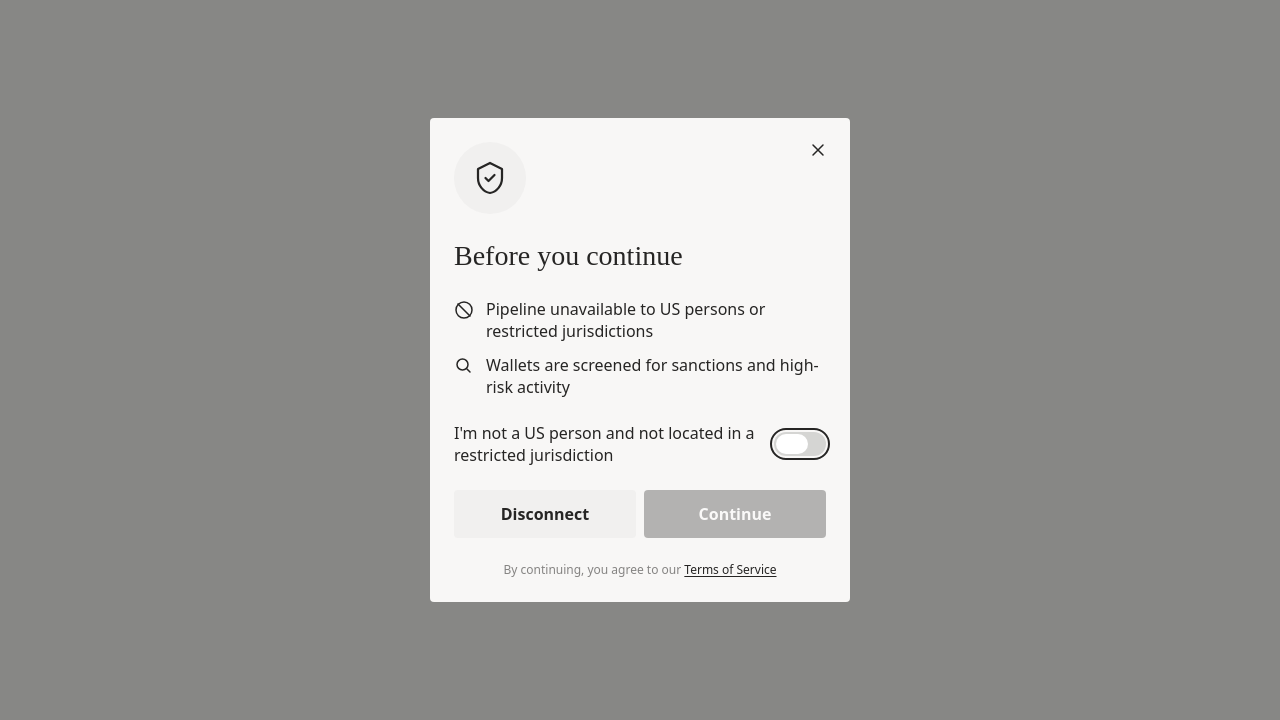
Test: FirstConnectionModal — toggle interaction › toggling on then off re-disables Continue
The width and height of the screenshot is (1280, 720).
Click the switch at (800, 444), box x1=774 y1=432 x2=826 y2=456
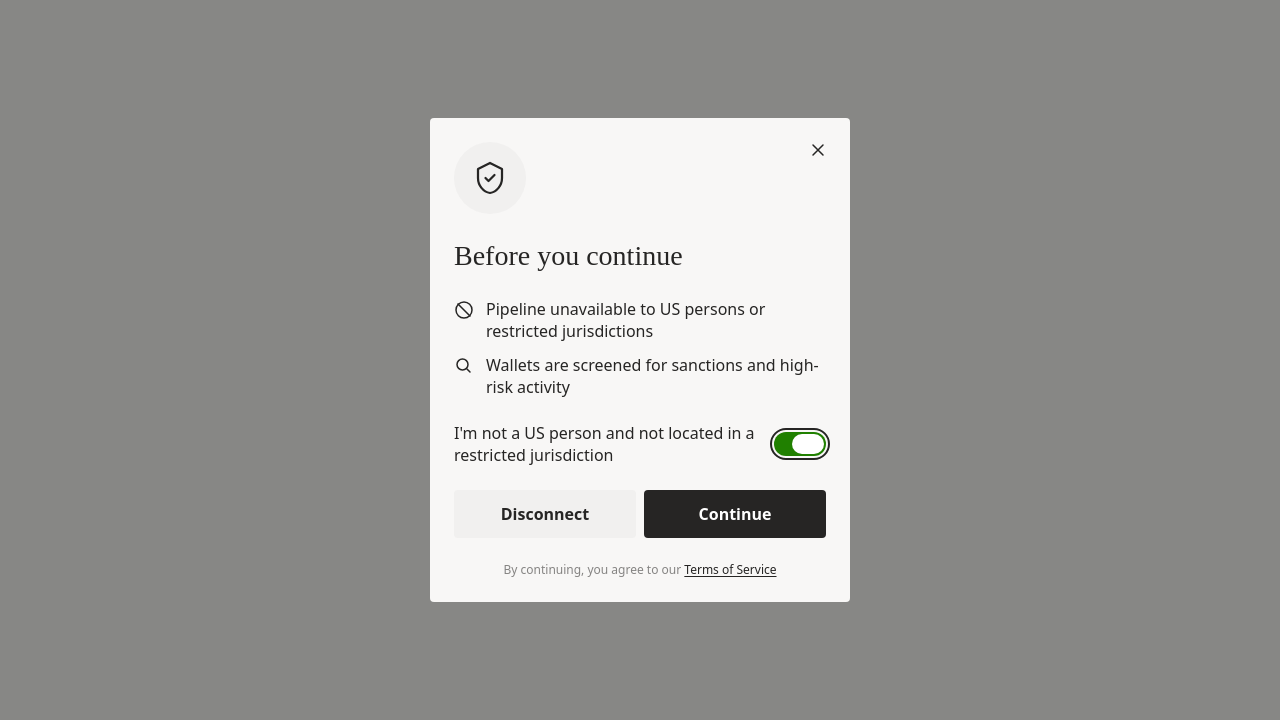
Click the switch at (800, 444), box x1=774 y1=432 x2=826 y2=456
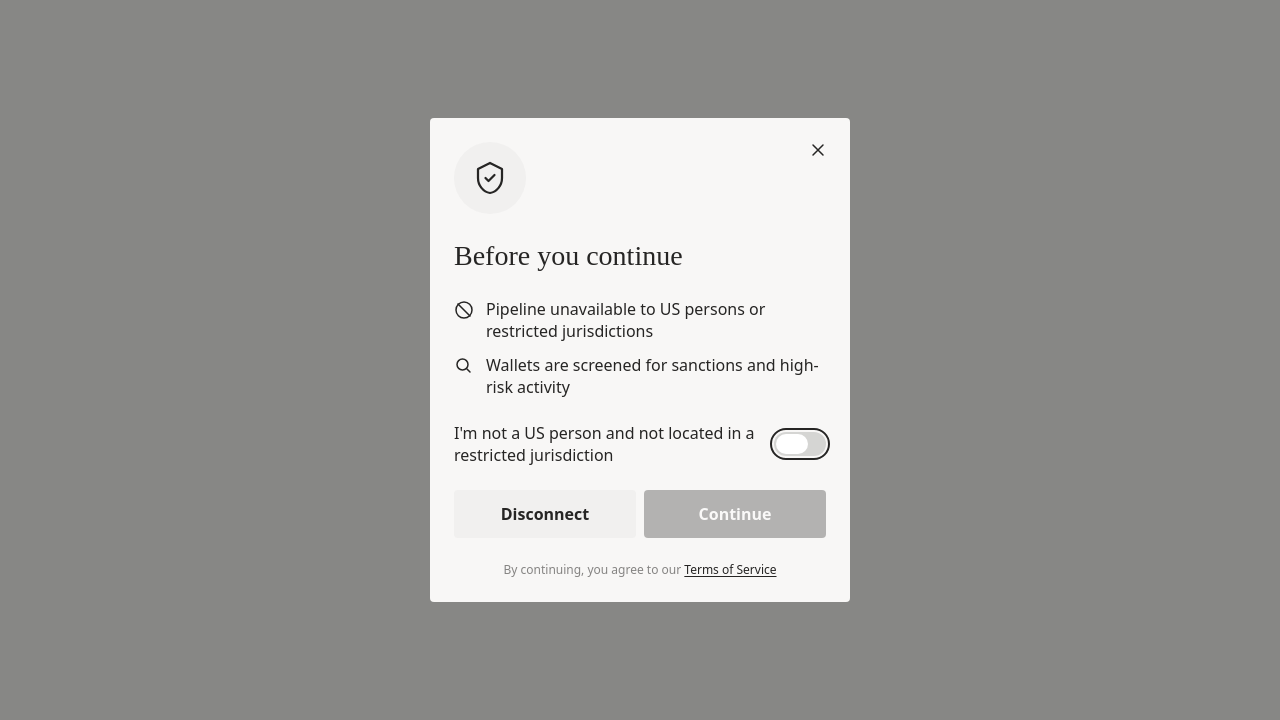
Expected: the button "Continue" is disabled, x1=644 y1=490 x2=826 y2=538
